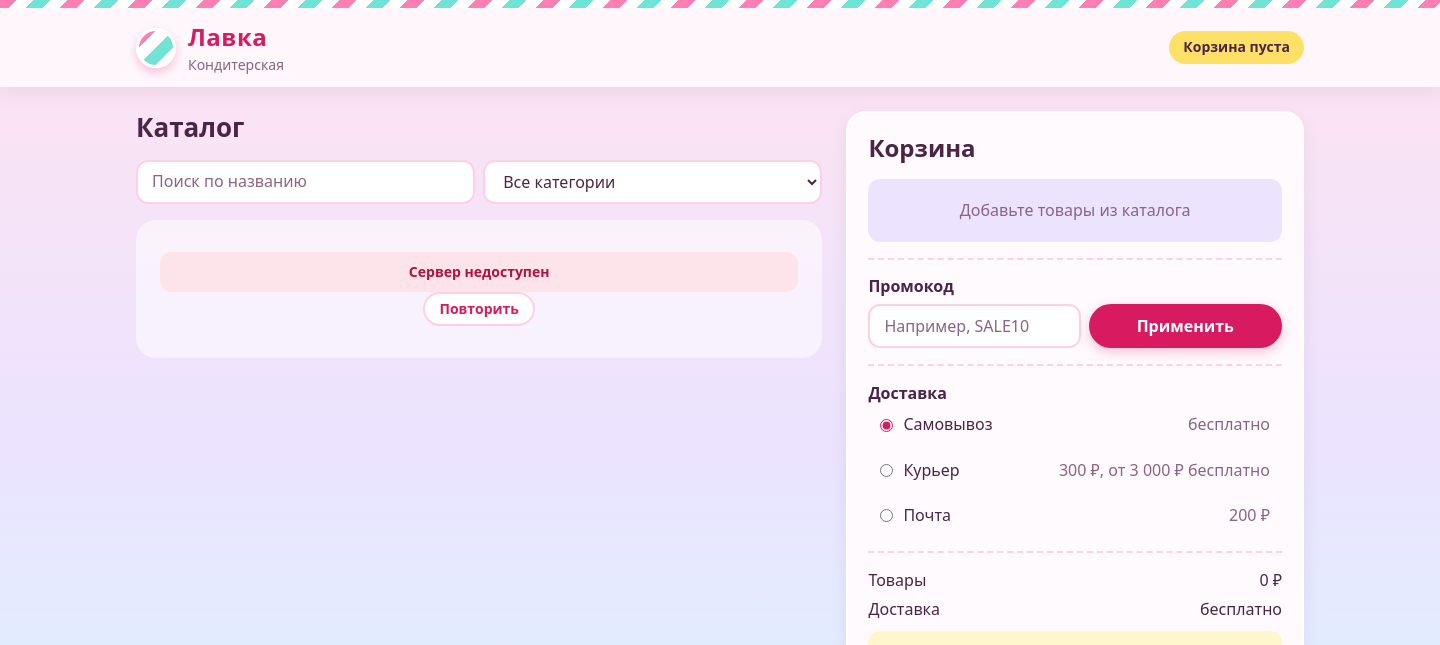
Test: «Лавка» на React 19 › показывает ошибку загрузки и повторяет запрос по кнопке
Expected: the message shows "Сервер недоступен", left=409, top=262, right=550, bottom=281
Click the button "Повторить": (479, 309) left=424, top=292, right=535, bottom=326
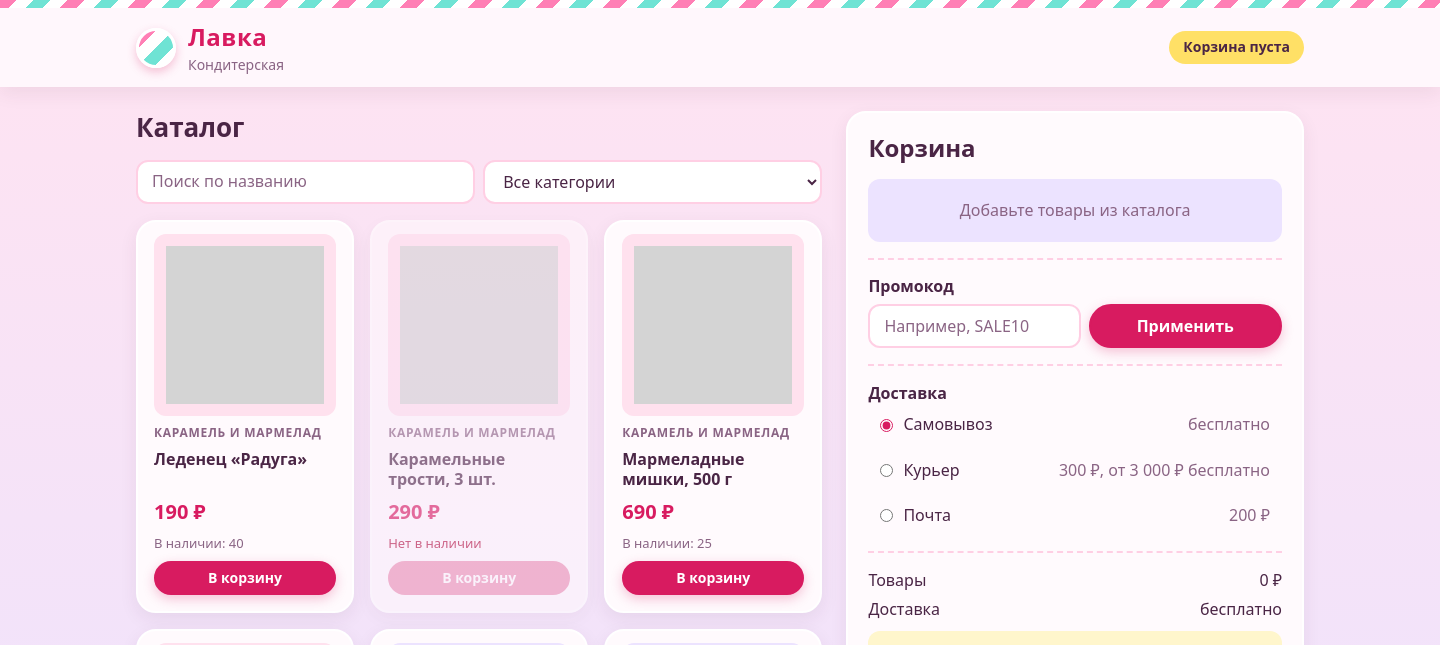
Expected: the button with aria-label "В корзину: Мармеладные мишки, 500 г" is shown, left=622, top=561, right=804, bottom=595
